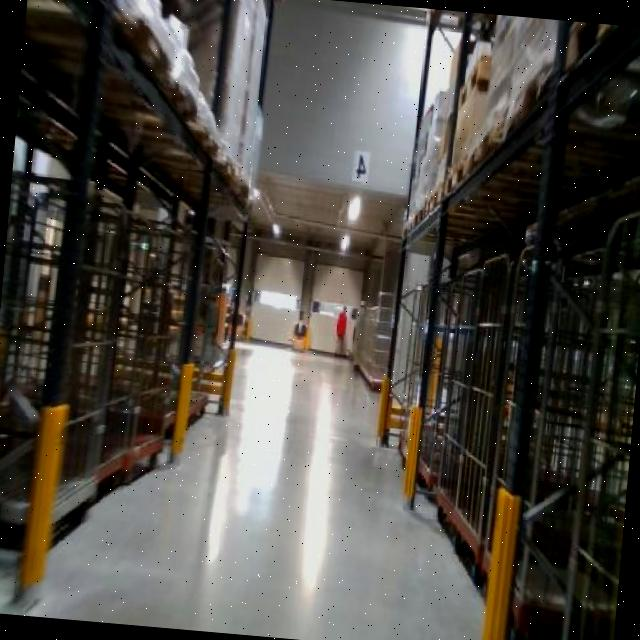pallet: (446, 143, 479, 208), (473, 111, 504, 173)
